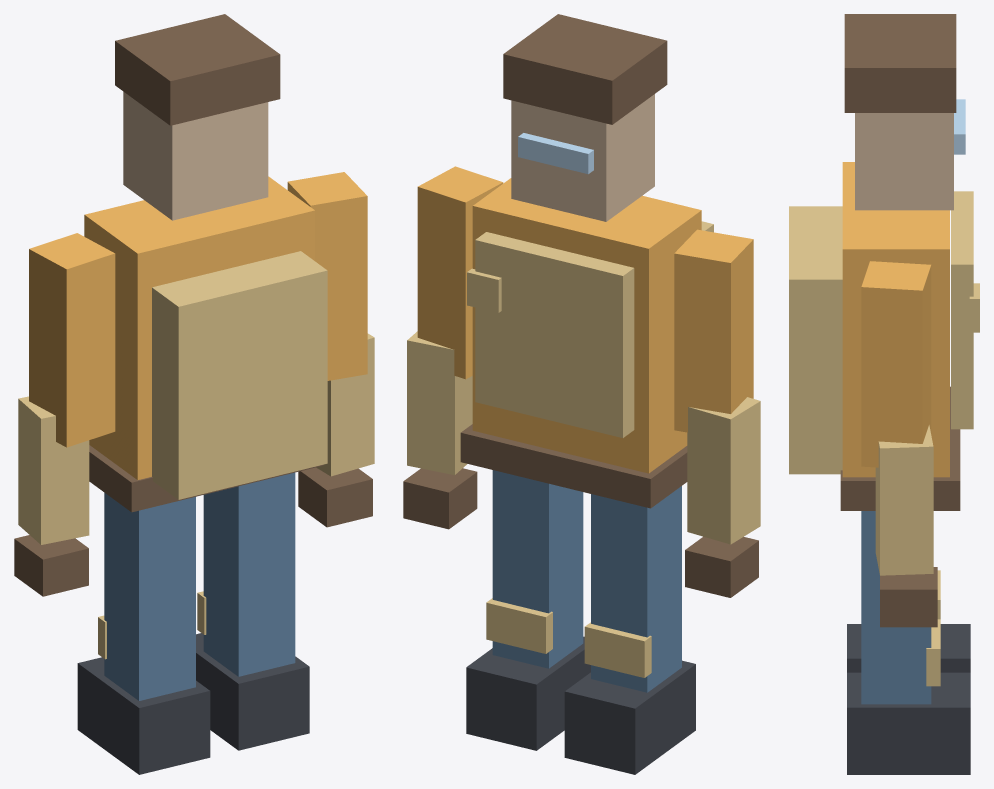
Rendered from player_birthday.glb.
The picture shows the model from 3 angles, left to right: view 1: azimuth 30°, elevation 25°; view 2: azimuth 150°, elevation 25°; view 3: azimuth 270°, elevation 25°; orthographic projection.
Visible parts, largest first — view 1: backpack, thigh (×2), upper_arm (×2), torso_armored_jacket, boot (×2), head, hair_cap, forearm_guard (×2), glove (×2), belt; view 2: thigh (×2), chest_plate, upper_arm (×2), torso_armored_jacket, boot (×2), forearm_guard (×2), hair_cap, head, belt, glove (×2), knee_pad (×2), visor (+1 smaller); view 3: torso_armored_jacket, backpack, upper_arm, boot (×2), hair_cap, head, forearm_guard, thigh, chest_plate, glove, belt, knee_pad (+2 smaller).
Boxes of the visible parts, x1=… form: backpack: x1=152, y1=251, x2=327, y2=499; thigh (×2): x1=104, y1=472, x2=295, y2=700; upper_arm (×2): x1=29, y1=172, x2=367, y2=447; torso_armored_jacket: x1=84, y1=176, x2=314, y2=479; boot (×2): x1=77, y1=633, x2=309, y2=774; head: x1=123, y1=91, x2=268, y2=220; hair_cap: x1=115, y1=14, x2=280, y2=125; forearm_guard (×2): x1=18, y1=333, x2=374, y2=544; glove (×2): x1=14, y1=467, x2=372, y2=596; belt: x1=89, y1=445, x2=323, y2=512; thigh (×2): x1=492, y1=470, x2=681, y2=692; chest_plate: x1=475, y1=232, x2=634, y2=437; upper_arm (×2): x1=417, y1=166, x2=753, y2=432; torso_armored_jacket: x1=472, y1=178, x2=701, y2=473; boot (×2): x1=466, y1=636, x2=695, y2=774; forearm_guard (×2): x1=407, y1=331, x2=760, y2=544; hair_cap: x1=503, y1=14, x2=667, y2=124; head: x1=511, y1=94, x2=654, y2=221; belt: x1=460, y1=424, x2=687, y2=508; glove (×2): x1=403, y1=468, x2=758, y2=597; knee_pad (×2): x1=486, y1=598, x2=651, y2=677; visor: x1=518, y1=133, x2=593, y2=174; torso_armored_jacket: x1=842, y1=162, x2=949, y2=477; backpack: x1=789, y1=206, x2=842, y2=474; upper_arm: x1=861, y1=261, x2=931, y2=467; boot (×2): x1=847, y1=624, x2=970, y2=774; hair_cap: x1=844, y1=14, x2=956, y2=112; head: x1=855, y1=113, x2=953, y2=210; forearm_guard: x1=875, y1=425, x2=933, y2=575; thigh: x1=861, y1=511, x2=931, y2=704; chest_plate: x1=951, y1=191, x2=973, y2=429; glove: x1=880, y1=567, x2=937, y2=627; belt: x1=840, y1=386, x2=960, y2=510; knee_pad: x1=926, y1=619, x2=940, y2=686.
Bounding box in the file's own units: 0.94 × 1.85 × 0.4625.
